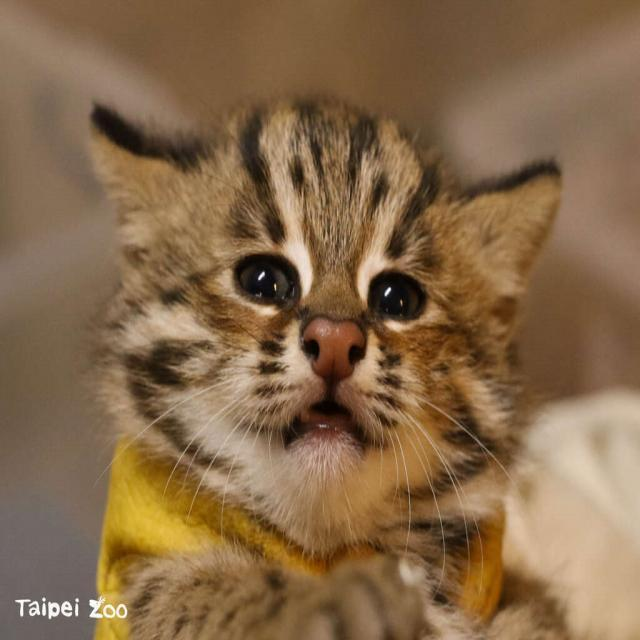leopard: (88, 87, 612, 583)
